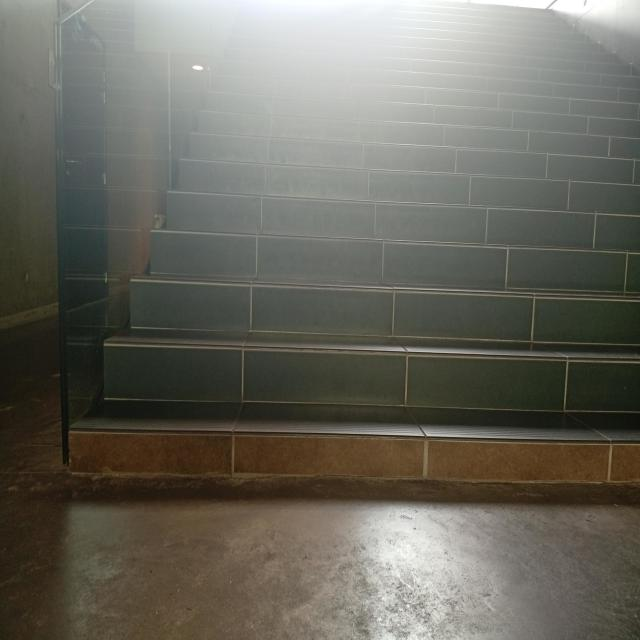Stairs: (199, 120, 640, 551)
